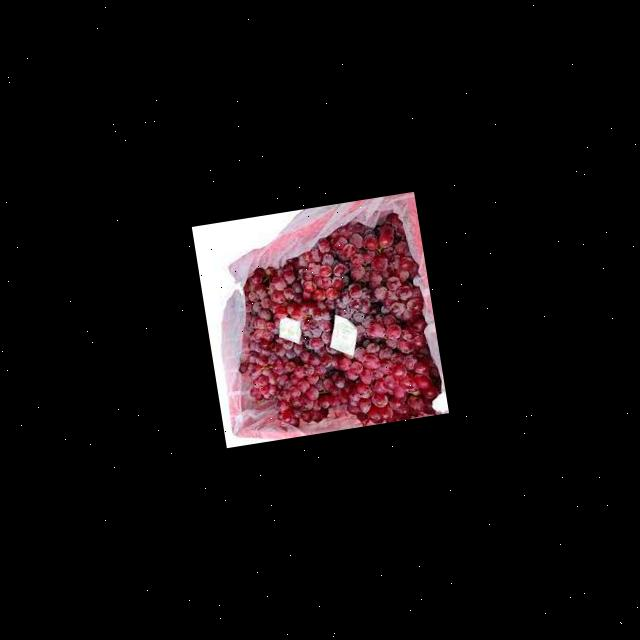grape: (217, 208, 446, 444)
